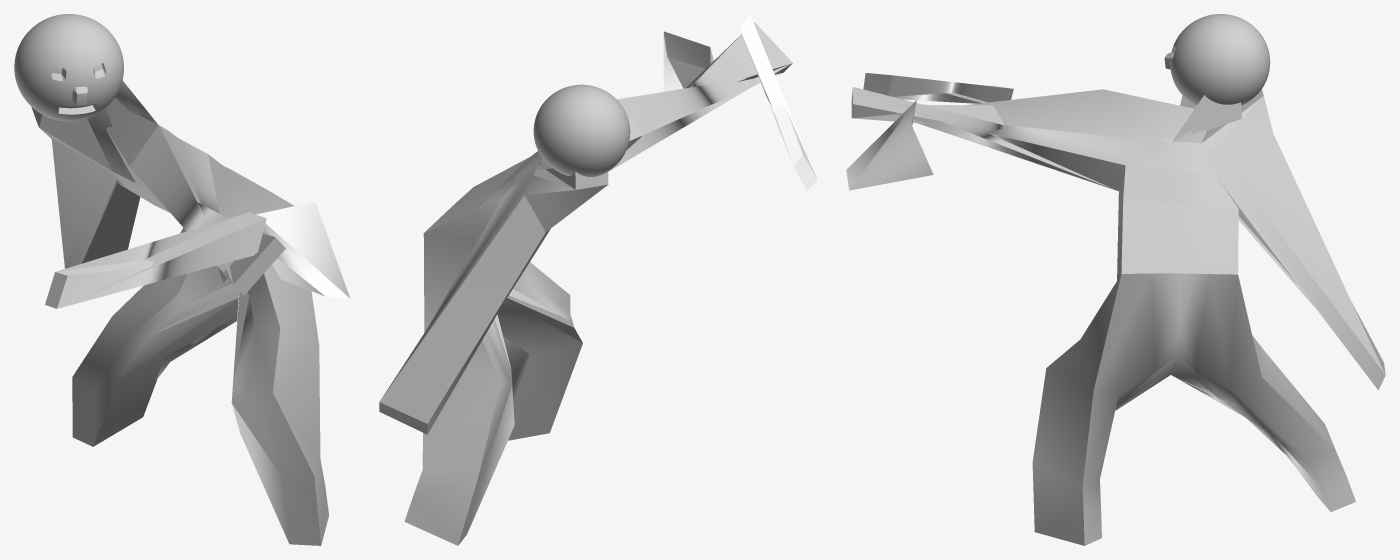
The model's file is attack2.obj.
3 renders of one model, left to right at view 1: azimuth 30°, elevation 25°; view 2: azimuth 150°, elevation 25°; view 3: azimuth 270°, elevation 25°, orthographic. The views are drawn at different scales.
Visible parts, largest first — view 1: 球.003_球.003mesh, 立方体.001_立方体.001mesh; view 2: 球.003_球.003mesh, 立方体.001_立方体.001mesh; view 3: 球.003_球.003mesh, 立方体.001_立方体.001mesh.
Boxes of the visible parts, left/top/right/bottom form: 球.003_球.003mesh: left=14, top=14, right=328, bottom=545; 立方体.001_立方体.001mesh: left=45, top=201, right=350, bottom=308; 球.003_球.003mesh: left=379, top=22, right=792, bottom=545; 立方体.001_立方体.001mesh: left=663, top=14, right=817, bottom=190; 球.003_球.003mesh: left=851, top=14, right=1385, bottom=545; 立方体.001_立方体.001mesh: left=846, top=73, right=1013, bottom=190.
Bounding box in the file's own units: 1.36 × 1.9 × 2.08.
